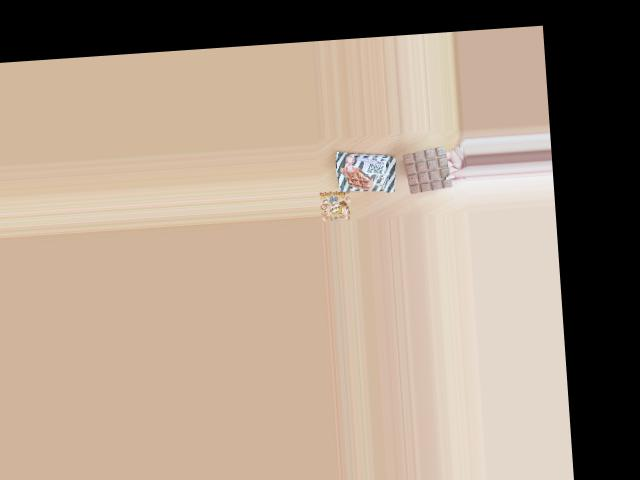chocolate: (332, 148, 400, 194)
